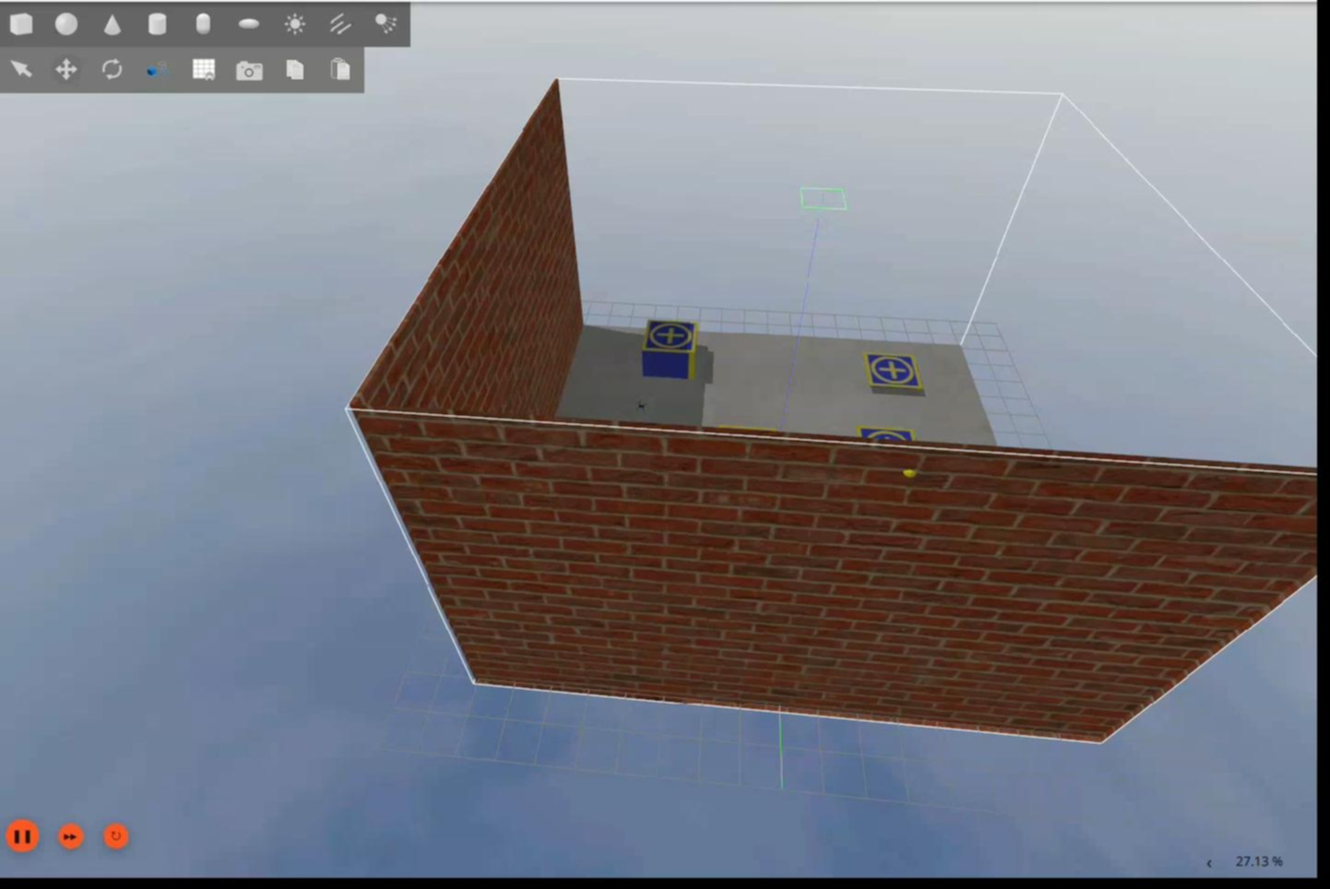small_base: (864, 350, 926, 393), (642, 317, 701, 356), (857, 426, 918, 444)
